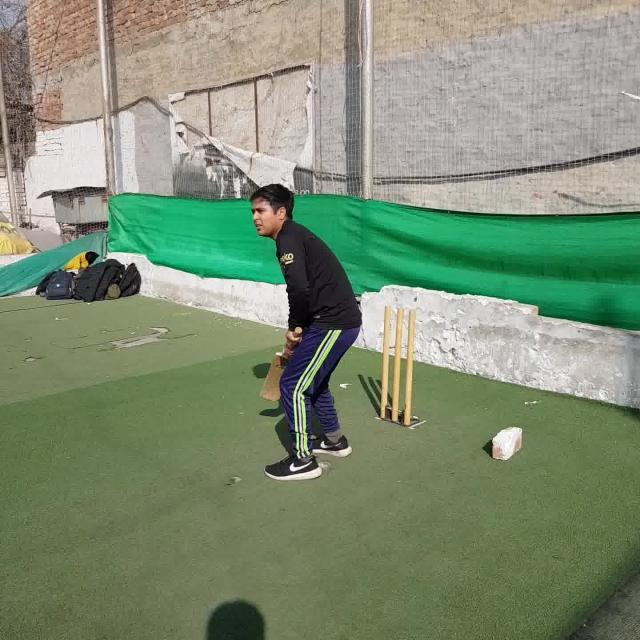bat: (259, 326, 302, 402)
